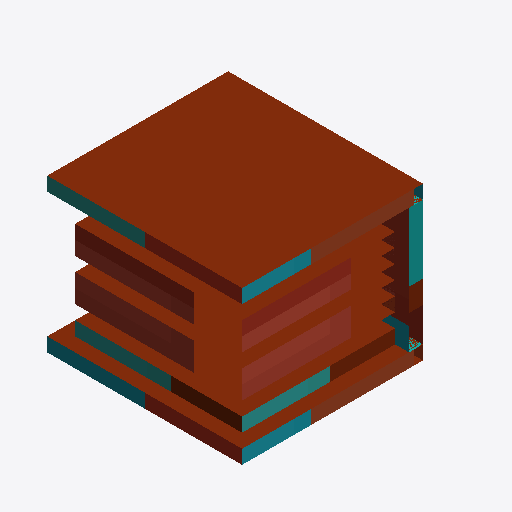
A Minecraft block model of 15 cuboids, rendered isometrically (azimuth 45°, elevation 35.3°) with the resource pack's own textures.
Visible parts, largest first — element 2, element 1, element 7, element 10, element 13, element 9, element 12, element 3.
Boxes of the visible parts, x1,y1,x2,y2 form: element 2: [47, 71, 422, 303]; element 1: [47, 321, 422, 464]; element 7: [75, 313, 394, 431]; element 10: [75, 264, 394, 383]; element 13: [75, 216, 394, 335]; element 9: [75, 288, 394, 399]; element 12: [75, 240, 393, 351]; element 3: [382, 196, 422, 351].
Bounding box in the file's own units: 16 × 11 × 14.